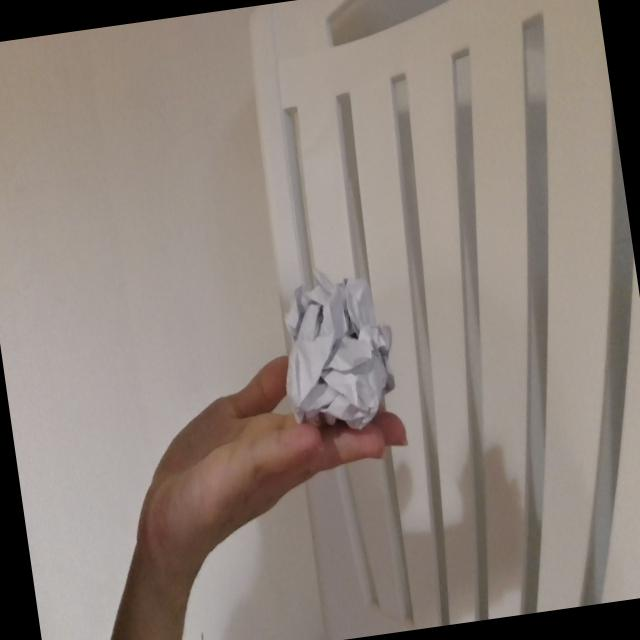crumpled_paper: (272, 257, 406, 443)
